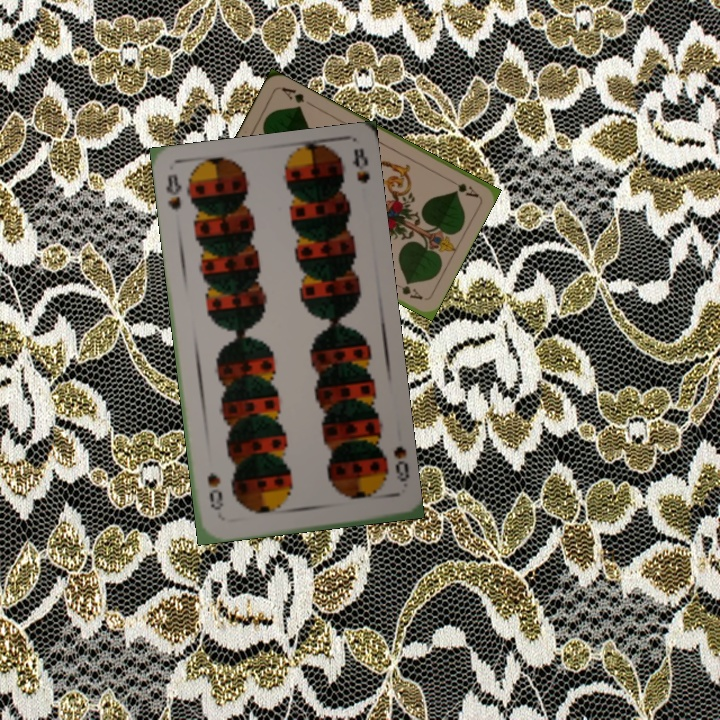GA: (443, 174, 481, 200)
S8: (162, 170, 184, 213), (390, 442, 411, 485)
